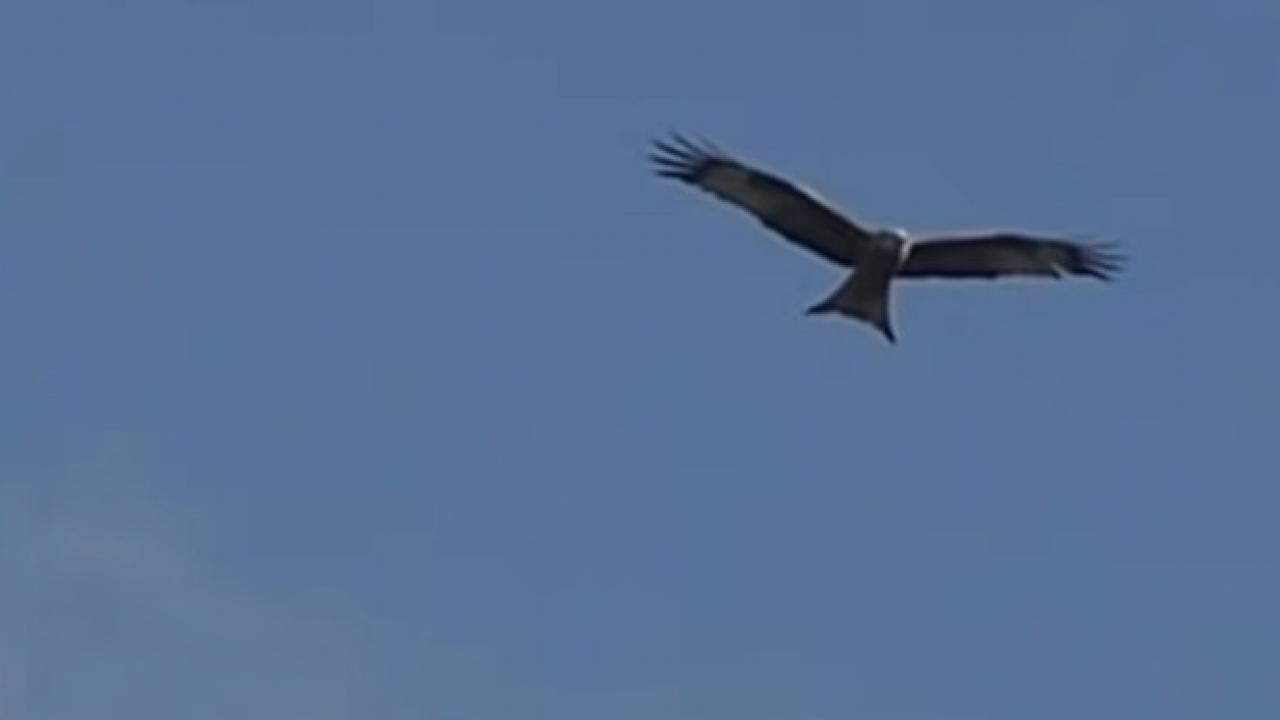Bird: (638, 117, 1138, 356)
